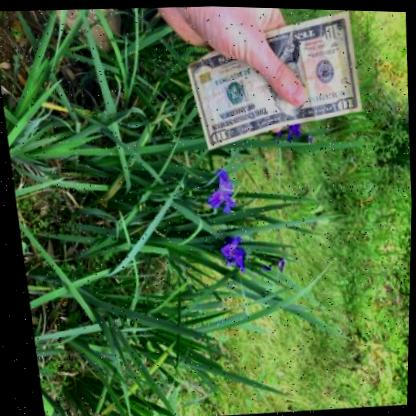ten-front: (183, 9, 359, 151)
